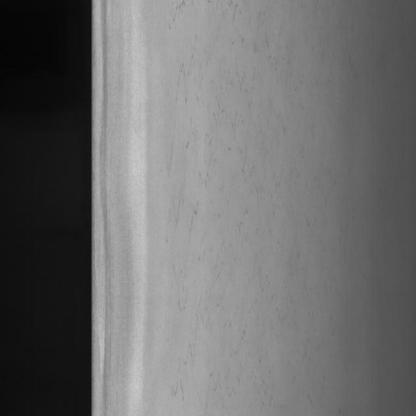silk_spot: (158, 10, 292, 385)
